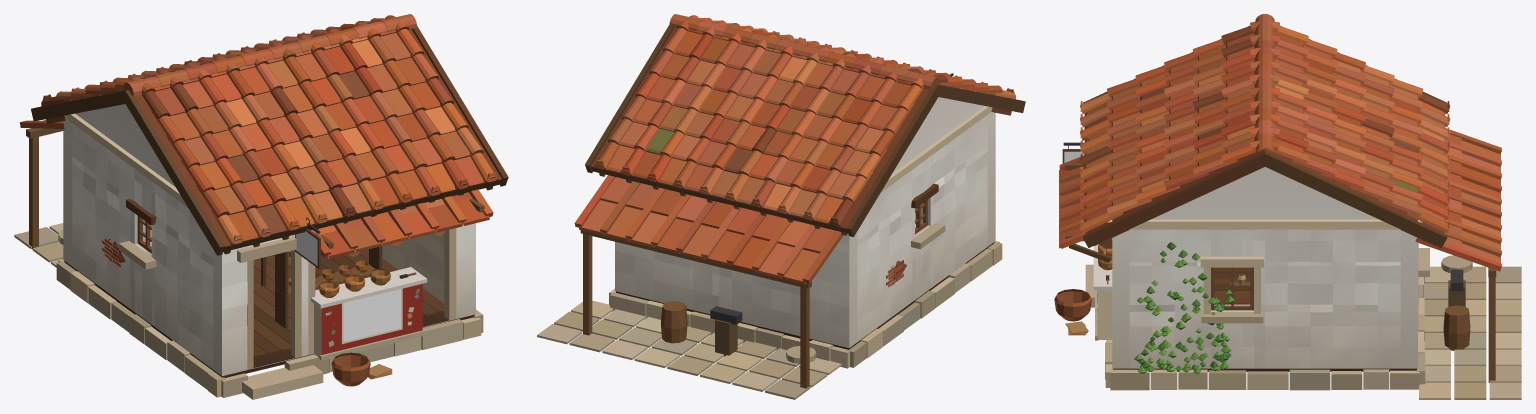
The model's file is artisan_4_1.glb.
3 renders of one model, left to right at view 1: azimuth 30°, elevation 25°; view 2: azimuth 150°, elevation 25°; view 3: azimuth 270°, elevation 25°, orthographic. The views are drawn at different scales.
Parts seen in each view (by area): view 1: House, Walls, Rooms; view 2: House, Walls; view 3: House, Walls, Rooms.
Boxes of the visible parts, x1,y1,x2,y2 form: House: (14,14,508,399); Walls: (63,104,475,376); Rooms: (150,225,444,358); House: (537,14,1025,399); Walls: (615,97,995,347); House: (1054,14,1521,399); Walls: (1112,167,1418,368); Rooms: (1214,267,1250,304).
Size of the model in its own units: 4.28 by 3.48 by 5.96.
Materials: 6 (6 with a texture image).
